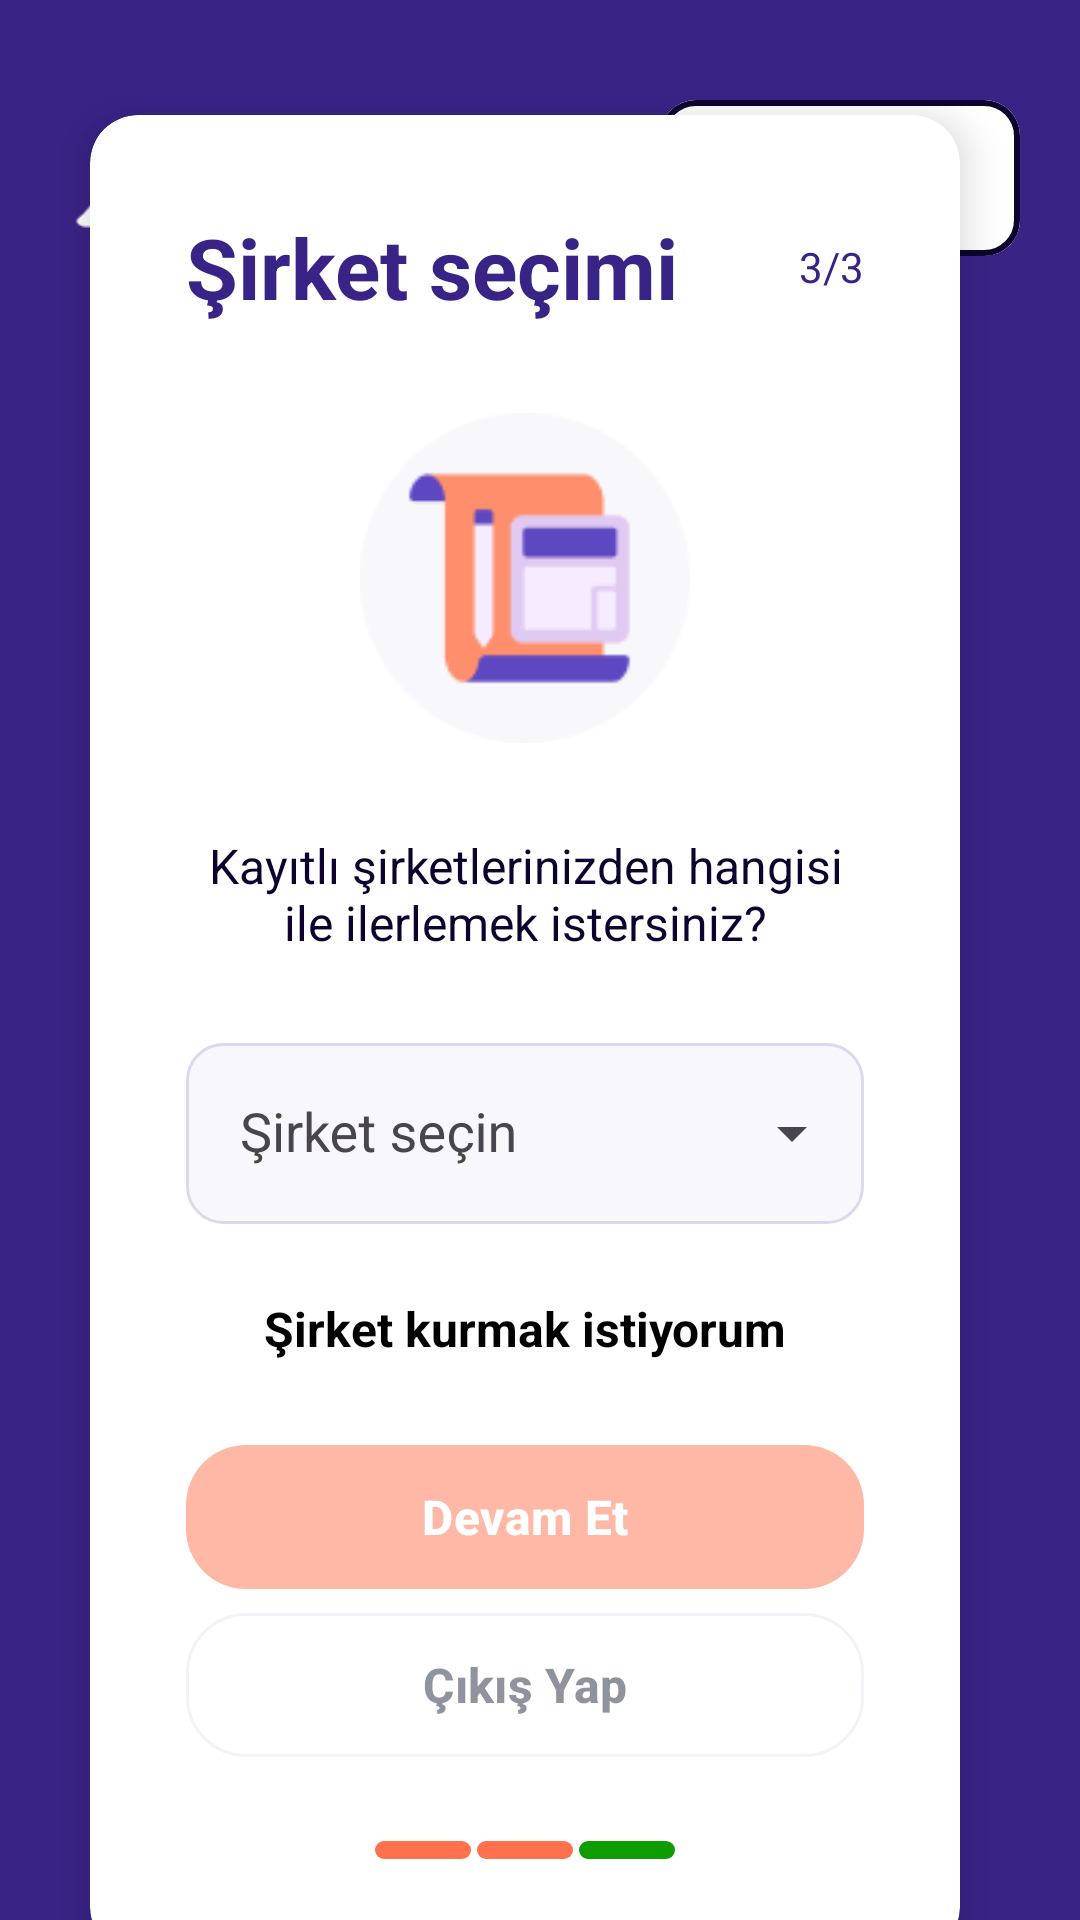

Icon click points for this 1080px x 1920px phone screenshot, format [x,y]:
graphic accounting: [519,578]
